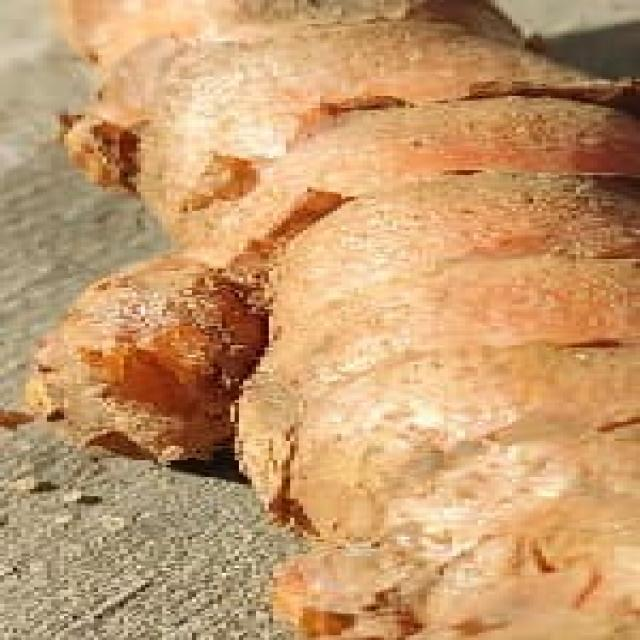ginger: (51, 0, 640, 628)
